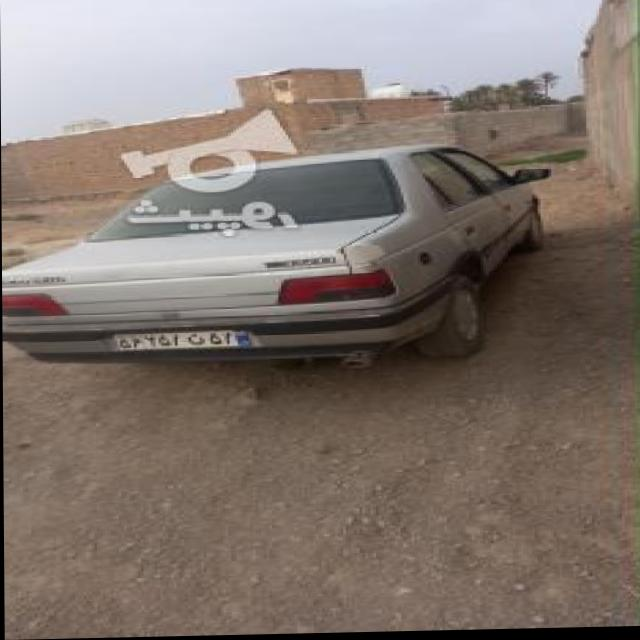licence: (106, 326, 251, 350)
